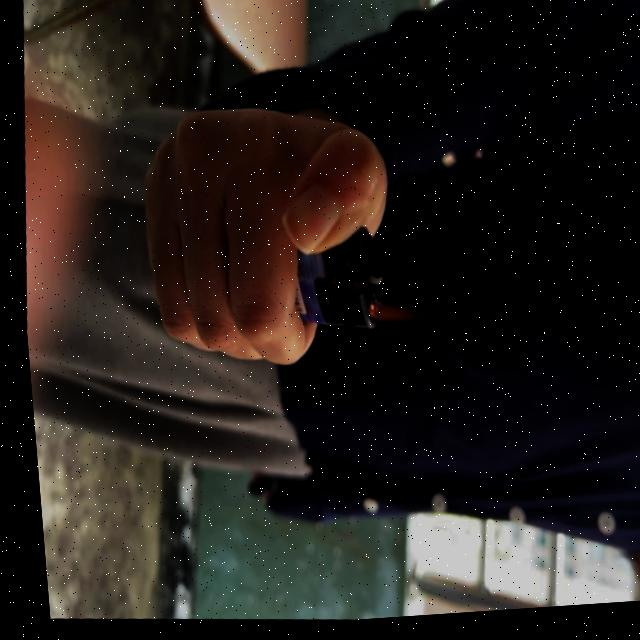Fire: (357, 298, 423, 335)
